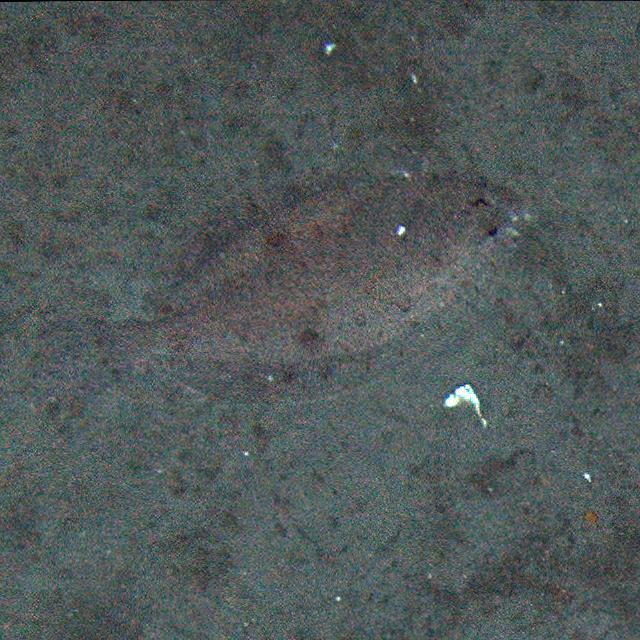flatfish: (42, 158, 527, 420)
